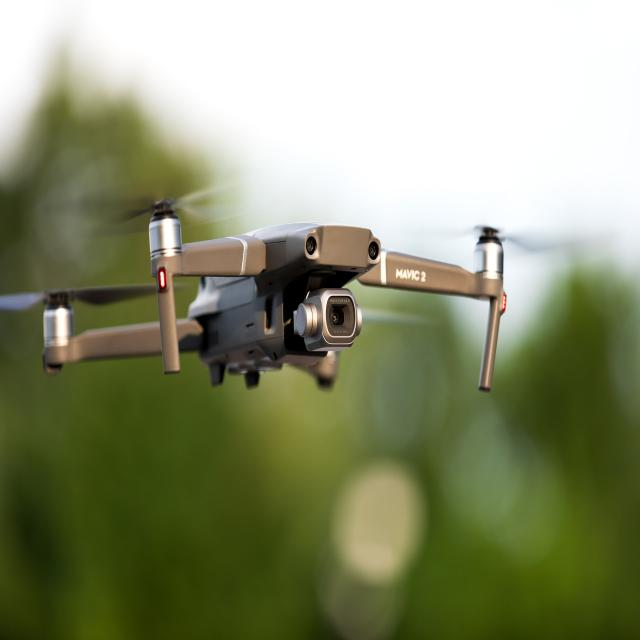drone: (7, 140, 522, 426)
